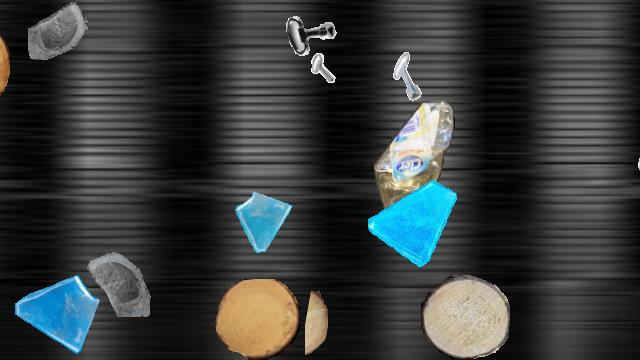glass: (11, 269, 101, 359), (368, 177, 458, 267), (77, 240, 153, 316), (232, 190, 296, 254), (28, 1, 88, 61)
metal: (279, 1, 341, 63), (385, 51, 435, 101), (287, 51, 335, 99), (629, 101, 640, 155), (636, 148, 640, 190)
plastic: (374, 101, 456, 247)
wood: (421, 275, 509, 359), (215, 279, 299, 359), (305, 291, 327, 359), (0, 24, 9, 116)
